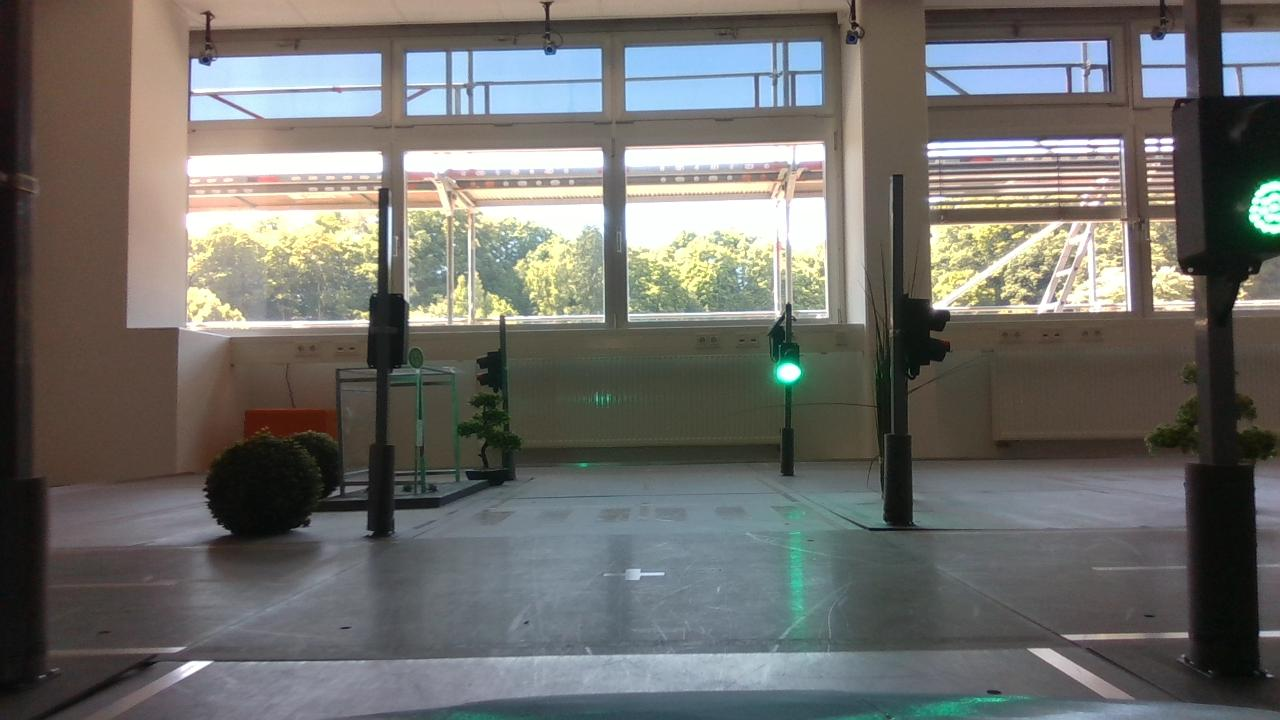traffic_light_green: (1157, 85, 1280, 274)
